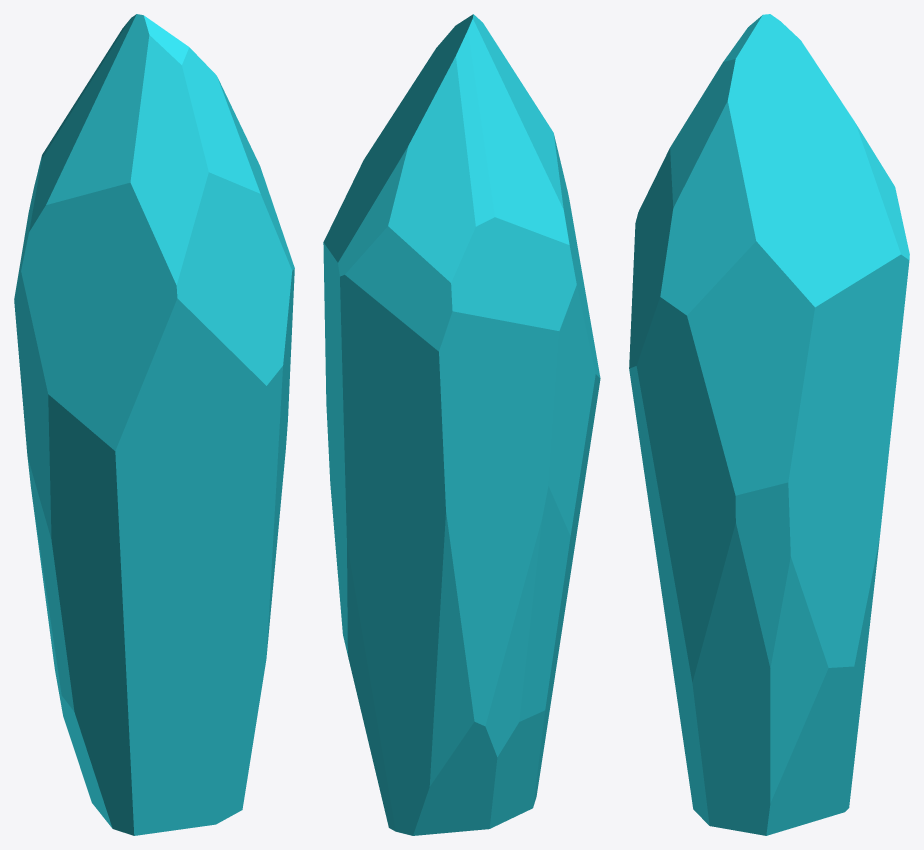
File: Crystal_OctaCut_Single.FBX
3 views of the same model, side by side, from view 1: azimuth 30°, elevation 25°; view 2: azimuth 150°, elevation 25°; view 3: azimuth 270°, elevation 25° (orthographic). The views are drawn at different scales.
Visible parts, largest first — view 1: Object034; view 2: Object034; view 3: Object034.
Part boxes in pixels (<box>): Object034: <box>14,14,294,835</box>; Object034: <box>323,14,600,835</box>; Object034: <box>629,14,909,835</box>.
Bounding box in the file's own units: 7.47 × 22.91 × 7.5.
